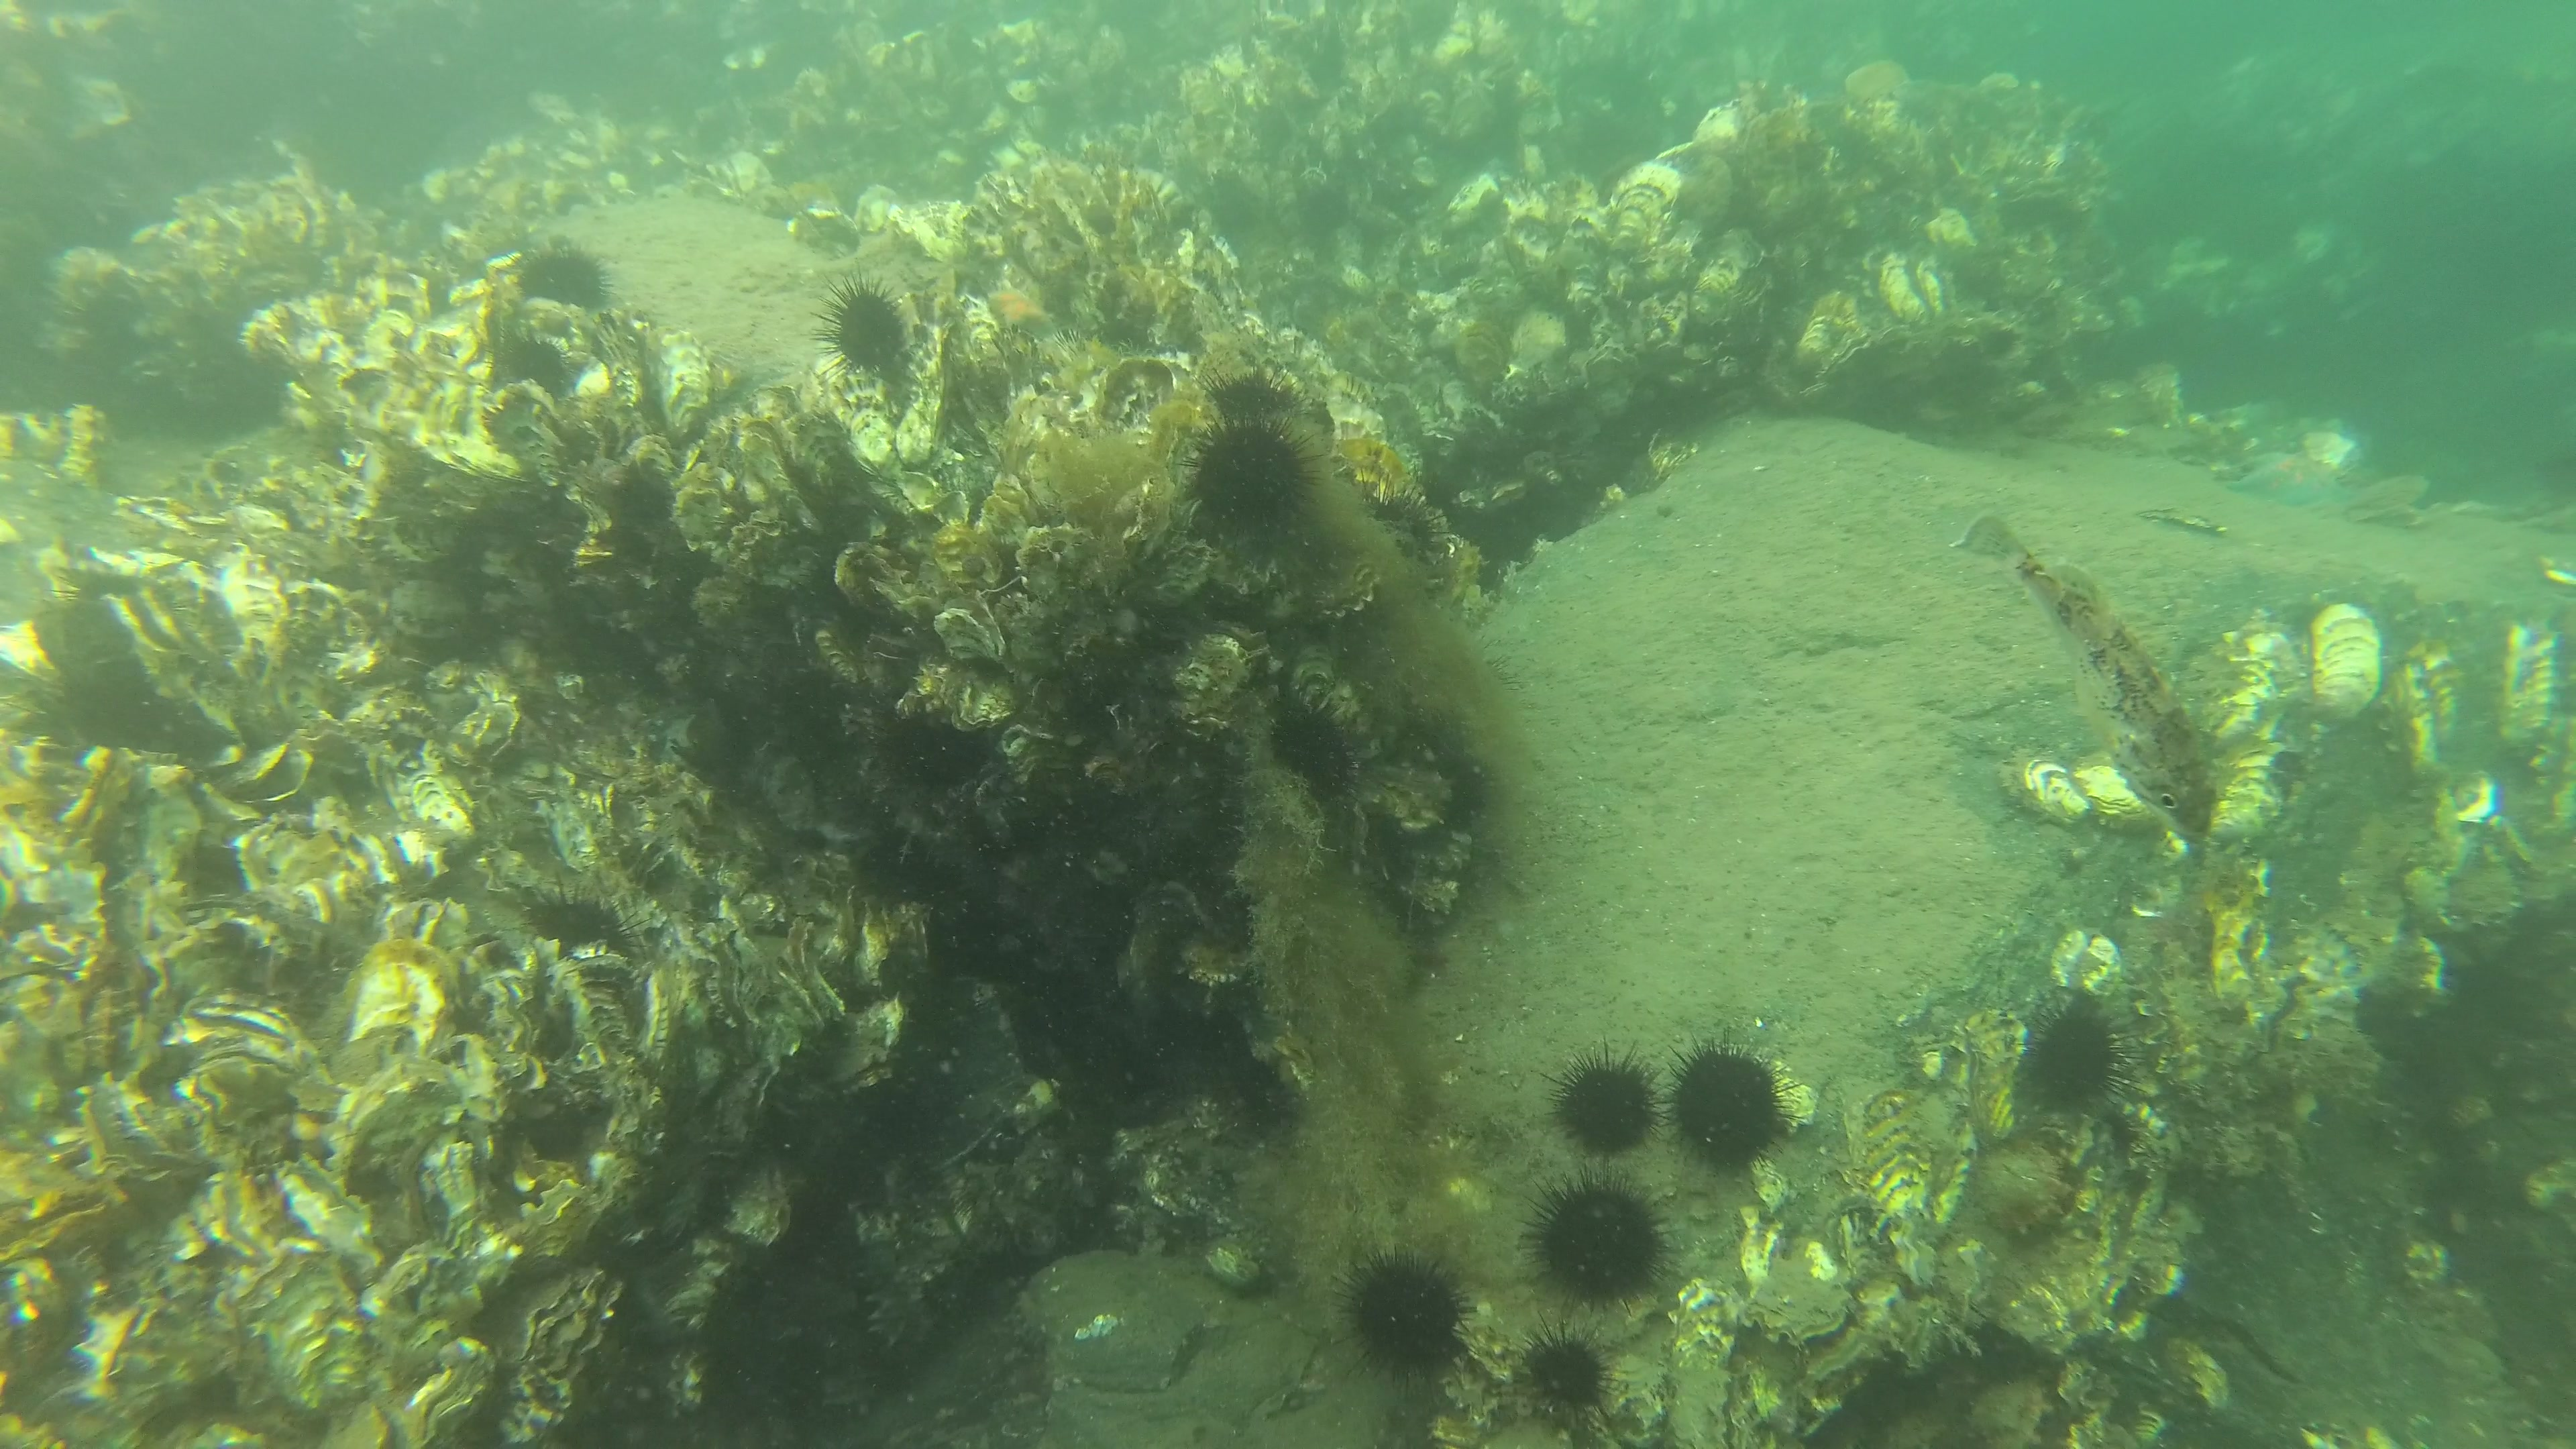echinus: (1663, 1033, 1801, 1189), (1332, 1240, 1479, 1382), (1525, 1169, 1668, 1302), (2015, 987, 2135, 1129), (1182, 412, 1311, 538), (1548, 1039, 1667, 1162), (1263, 674, 1366, 805), (1502, 1315, 1615, 1424), (809, 272, 922, 382), (525, 872, 653, 970), (508, 232, 619, 317), (1207, 364, 1306, 425)
starfish: (2231, 439, 2358, 517)
